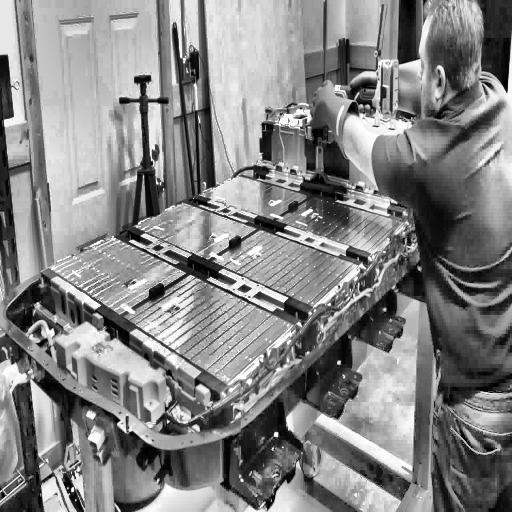battery_module: (123, 274, 295, 384), (208, 229, 359, 307), (49, 233, 187, 315), (273, 195, 405, 253), (132, 201, 257, 259), (197, 174, 313, 219)
busbar: (165, 367, 211, 417)
high_volt_cable: (229, 235, 420, 417)
low_volt_cable: (153, 224, 416, 432)
